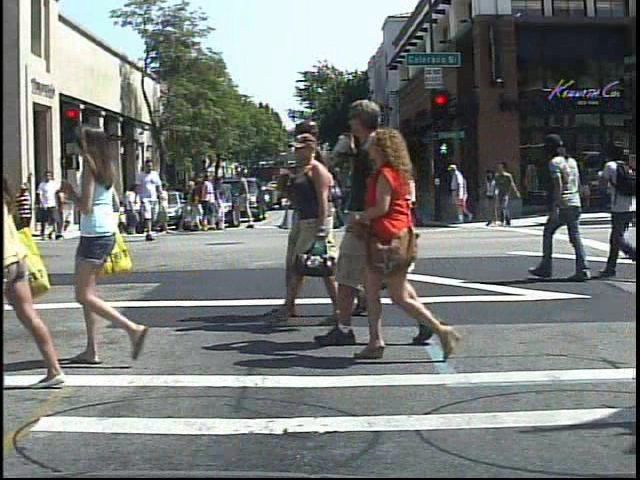person: (314, 88, 437, 347), (354, 117, 460, 361), (60, 114, 157, 376), (0, 133, 66, 393), (538, 129, 589, 280), (595, 135, 638, 286), (133, 160, 166, 243), (91, 162, 122, 241), (38, 167, 65, 243), (449, 163, 472, 226), (13, 181, 35, 242), (92, 182, 113, 220)
